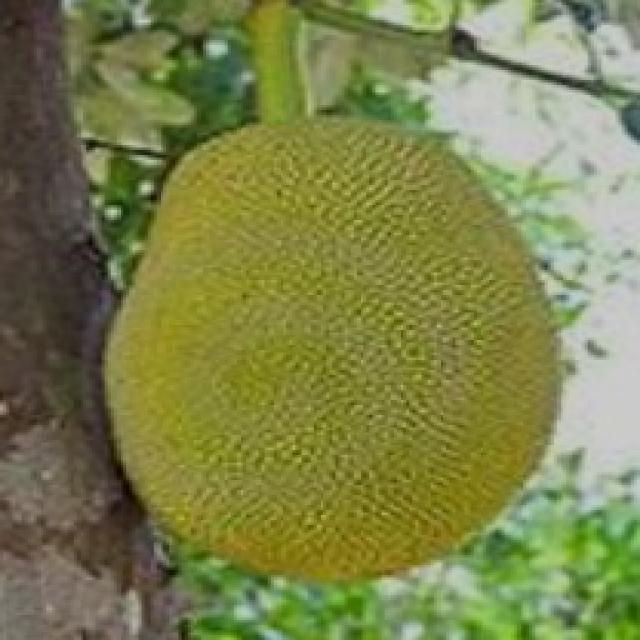Fruit: (246, 190, 606, 615)
